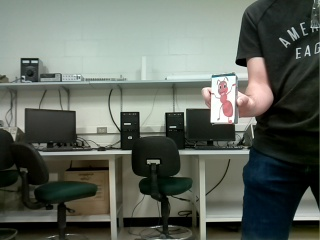Happy: (211, 76, 236, 123)
